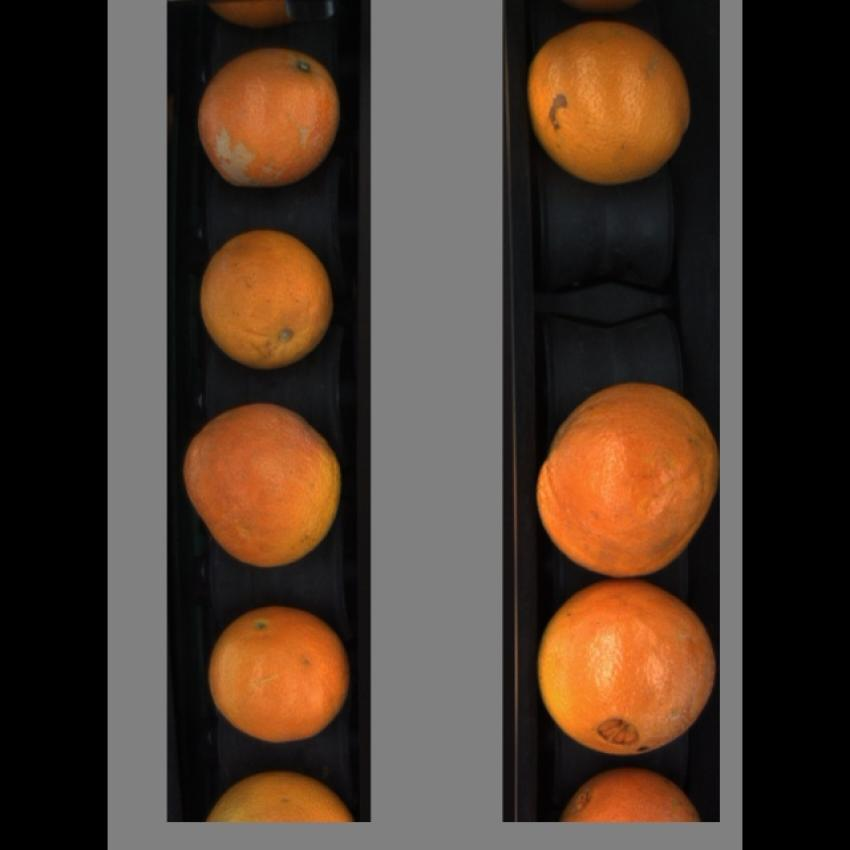Buen estado: (202, 598, 351, 741), (202, 766, 362, 824)
Mal estado: (534, 378, 720, 579), (536, 575, 718, 763), (522, 20, 708, 192), (177, 396, 352, 571), (190, 44, 349, 187), (195, 224, 344, 370), (557, 767, 708, 822)
